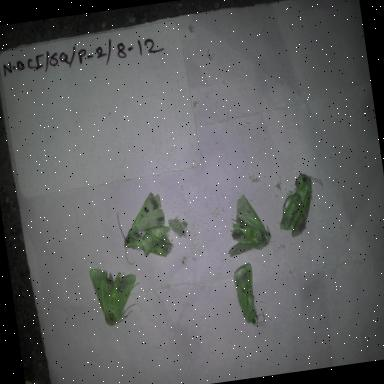abw: (111, 185, 182, 270), (212, 183, 281, 262), (84, 259, 148, 331), (272, 168, 332, 242), (225, 258, 278, 334)
